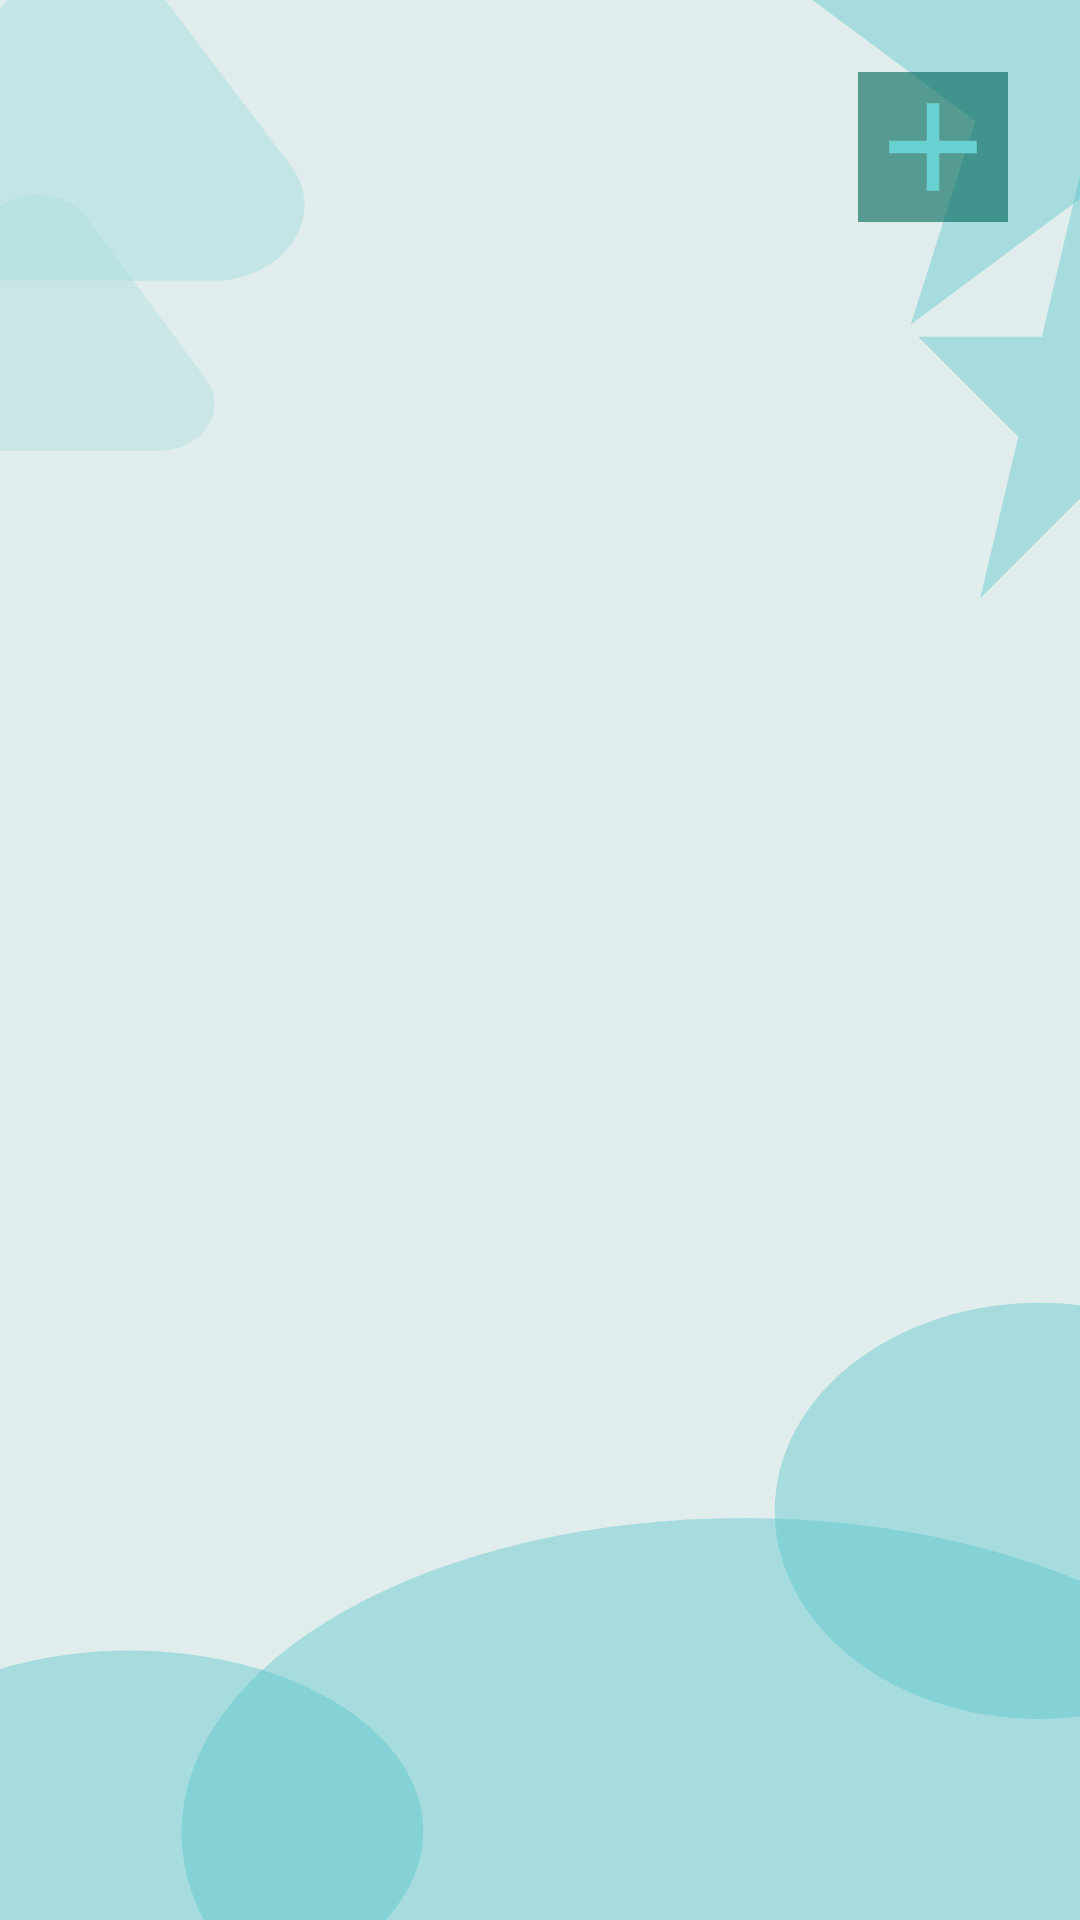

Icon click points for this 1080 x 1920 phone screenshot, format [x,y]:
add: [933,147]
